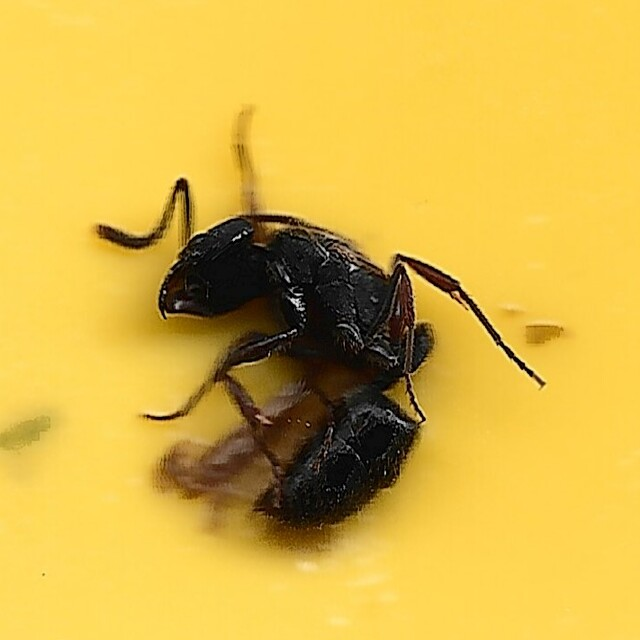Hymenoptera: (90, 105, 550, 535)
